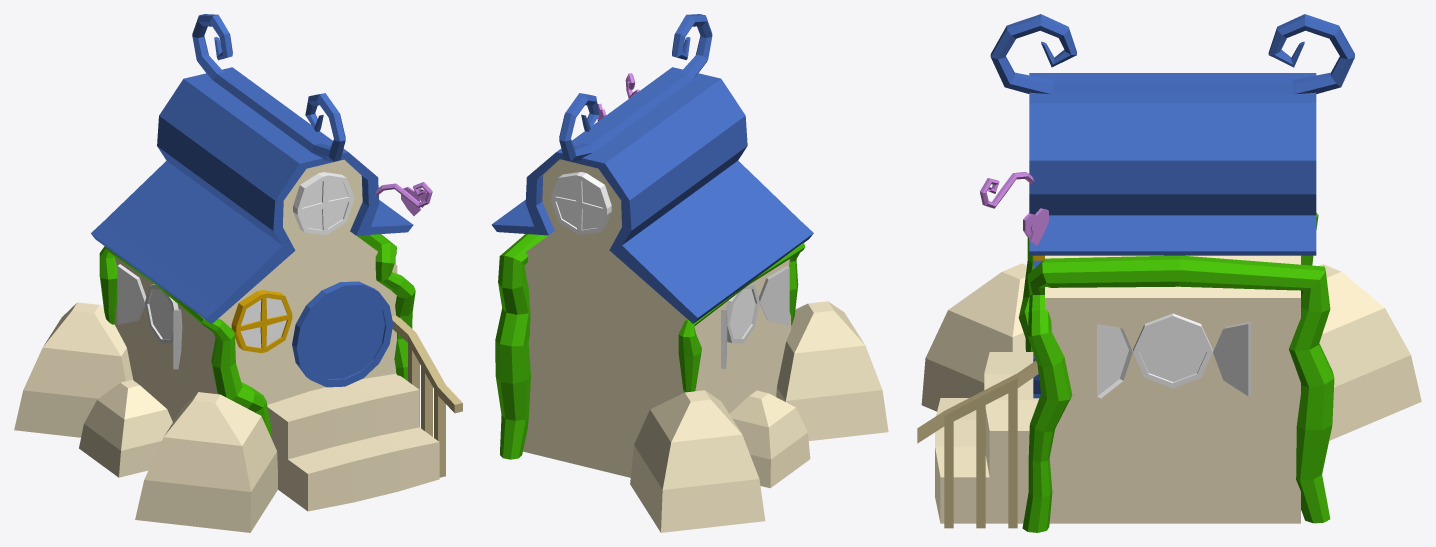
File: barash_house.glb
3 views of the same model, side by side, from view 1: azimuth 30°, elevation 25°; view 2: azimuth 150°, elevation 25°; view 3: azimuth 270°, elevation 25° (orthographic). The views are drawn at different scales.
Visible parts, largest first — view 1: Cube, Cube.001, Cube.004, Cube.005, Cylinder, Cube.006, BézierCurve, BézierCurve.003, Cube.007, Cube.002, Cube.003, BézierCurve.002 (+3 smaller); view 2: Cube, Cube.005, Cube.004, BézierCurve.002, Cube.006, BézierCurve, Cube.008, BézierCurve.003, Cylinder.002, Cylinder.001; view 3: Cube, BézierCurve.002, Cube.005, Cube.001, BézierCurve, Cube.004, Cube.007, Cylinder.005, Cylinder.006, Cylinder.004, BézierCurve.003, BézierCurve.001 (+1 smaller).
Boxes of the visible parts, x1,y1,x2,y2 form: Cube: (91, 67, 413, 421); Cube.001: (267, 373, 439, 511); Cube.004: (135, 392, 277, 532); Cube.005: (14, 302, 133, 437); Cylinder: (292, 281, 393, 387); Cube.006: (79, 379, 172, 477); BézierCurve: (192, 14, 345, 161); BézierCurve.003: (99, 246, 271, 438); Cube.007: (392, 315, 462, 477); Cube.002: (293, 172, 353, 235); Cube.003: (231, 290, 292, 353); BézierCurve.002: (357, 234, 415, 380); Cube: (491, 67, 813, 477); Cube.005: (630, 390, 765, 532); Cube.004: (776, 301, 888, 440); BézierCurve.002: (495, 234, 547, 459); Cube.006: (729, 390, 810, 488); BézierCurve: (559, 14, 712, 161); Cube.008: (551, 172, 611, 234); BézierCurve.003: (678, 243, 804, 392); Cylinder.002: (726, 284, 759, 343); Cylinder.001: (758, 265, 789, 325); Cube: (1029, 73, 1316, 523); BézierCurve.002: (1022, 255, 1334, 532); Cube.005: (1319, 264, 1421, 440); Cube.001: (935, 352, 1039, 523); BézierCurve: (990, 14, 1354, 94); Cube.004: (921, 263, 1026, 411); Cube.007: (917, 360, 1038, 528); Cylinder.005: (1133, 313, 1212, 388); Cylinder.006: (1213, 321, 1251, 396); Cylinder.004: (1097, 324, 1132, 398); BézierCurve.003: (1018, 212, 1318, 351); BézierCurve.001: (980, 172, 1034, 208).
Size of the model in its own units: 2.44 by 2.99 by 2.95.
